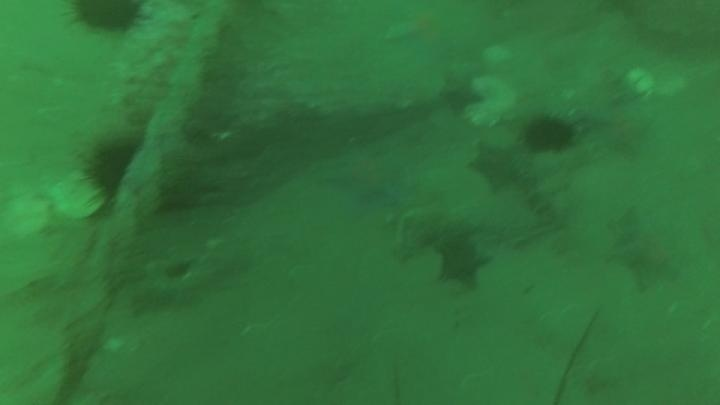echinus: (81, 136, 143, 202), (66, 1, 147, 37), (521, 113, 577, 156)
holothurian: (521, 155, 567, 225)
scallop: (45, 168, 107, 222)
starfish: (605, 206, 688, 293), (321, 142, 411, 210), (384, 7, 475, 67), (584, 95, 656, 159), (433, 234, 492, 292), (467, 140, 522, 194)
